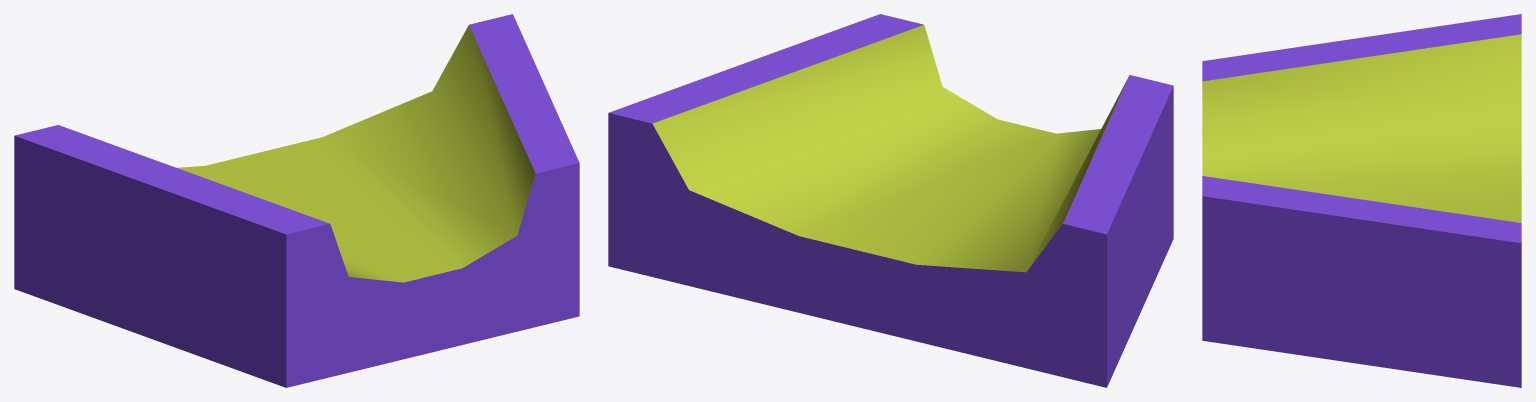
The model's file is funnel-col.dae.
3 renders of one model, left to right at view 1: azimuth 30°, elevation 25°; view 2: azimuth 150°, elevation 25°; view 3: azimuth 270°, elevation 25°, orthographic. The views are drawn at different scales.
Visible parts, largest first — view 1: funnel-col; view 2: funnel-col; view 3: funnel-col.
Boxes of the visible parts, x1=… form: funnel-col: x1=14, y1=14, x2=579, y2=387; funnel-col: x1=608, y1=14, x2=1173, y2=387; funnel-col: x1=1202, y1=14, x2=1521, y2=387.
Size of the model in its own units: 1.7 by 1 by 0.5.
